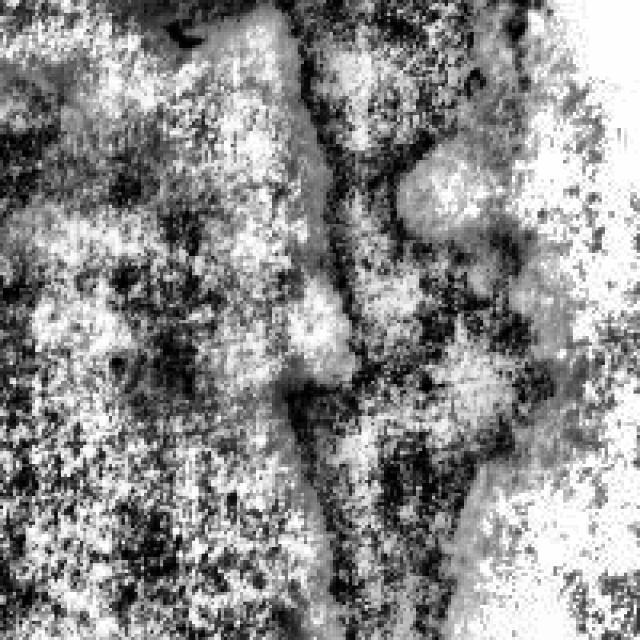Scratches: (269, 102, 560, 634), (147, 0, 528, 166), (0, 54, 154, 224)
